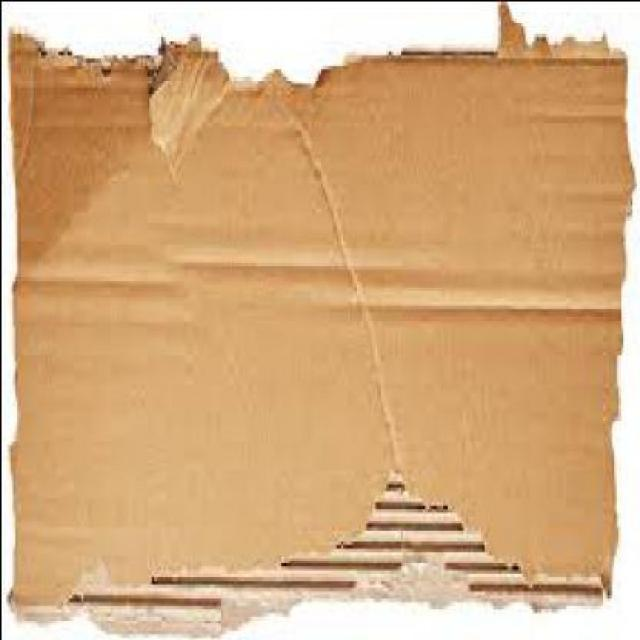box: (1, 3, 634, 639)
